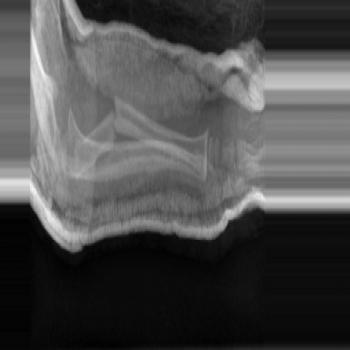Fracture: (106, 96, 120, 138)
